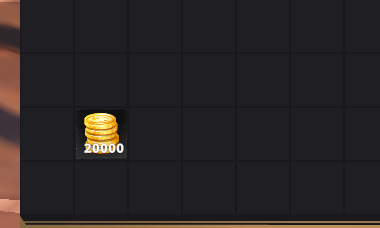gold: (76, 109, 127, 159)
